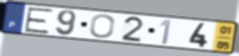1: (159, 19, 172, 46)
2: (120, 15, 146, 44)
4: (187, 22, 210, 48)
9: (54, 9, 80, 37)
E: (22, 6, 55, 35)
O: (88, 14, 117, 39)
